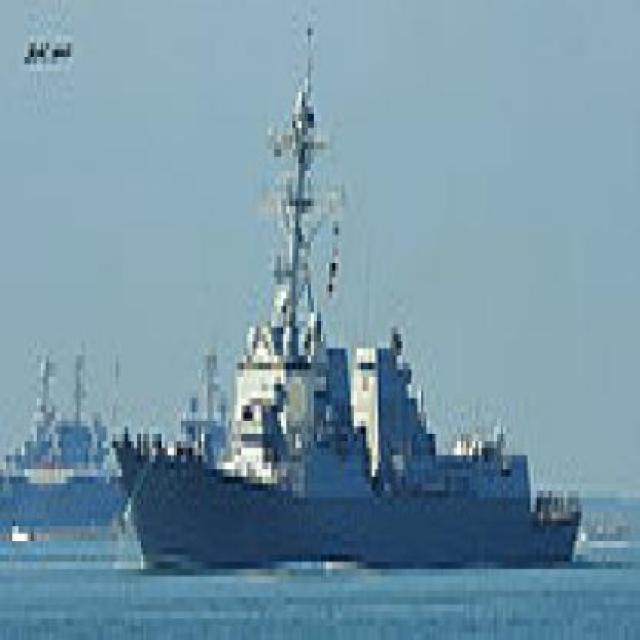warship2: (124, 23, 584, 592)
